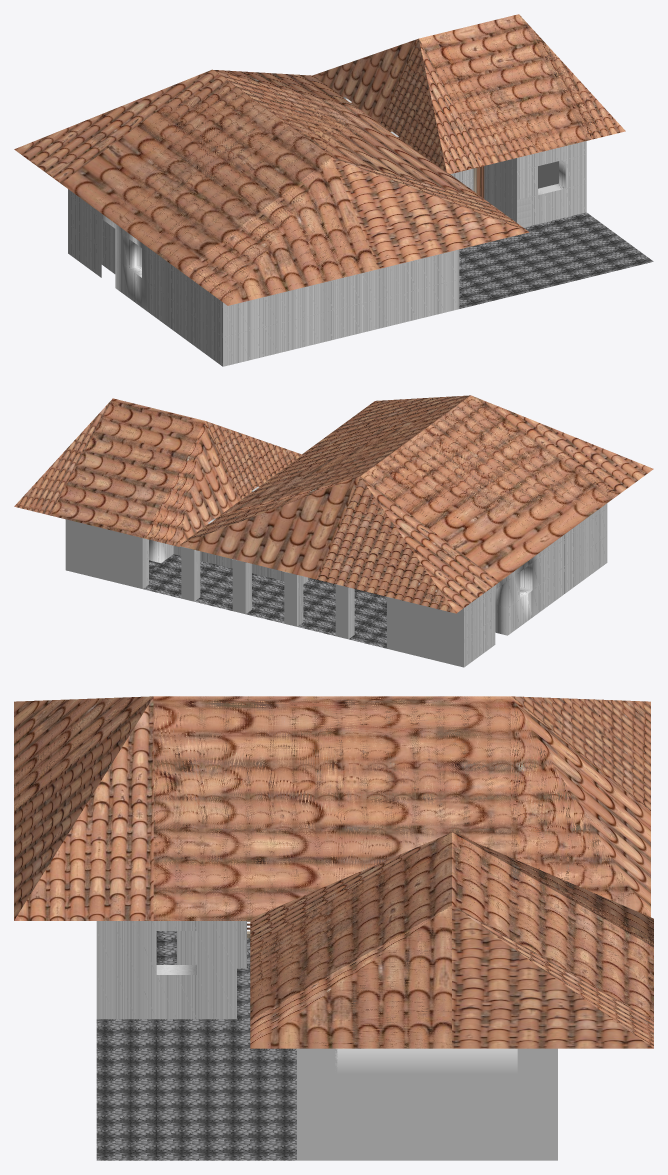
File: trapicheConTextura.obj
The picture shows the model from 3 angles, top to bottom: view 1: azimuth 30°, elevation 25°; view 2: azimuth 150°, elevation 25°; view 3: azimuth 270°, elevation 25°; orthographic projection. The views are drawn at different scales.
Visible parts, largest first — view 1: Plane.001_Plane.003, Plane, Plane.002_Plane.004; view 2: Plane.001_Plane.003, Plane, Plane.002_Plane.004; view 3: Plane.001_Plane.003, Plane, Plane.002_Plane.004.
Boxes of the visible parts, <box> form: Plane.001_Plane.003: <box>14,69,529,305</box>; Plane: <box>68,97,653,366</box>; Plane.002_Plane.004: <box>312,14,625,173</box>; Plane.001_Plane.003: <box>180,395,653,613</box>; Plane: <box>65,486,607,667</box>; Plane.002_Plane.004: <box>14,398,302,546</box>; Plane.001_Plane.003: <box>14,696,650,920</box>; Plane: <box>96,921,557,1160</box>; Plane.002_Plane.004: <box>250,832,653,1048</box>.
Bounding box in the file's own units: 38.02 × 13.48 × 29.63.
